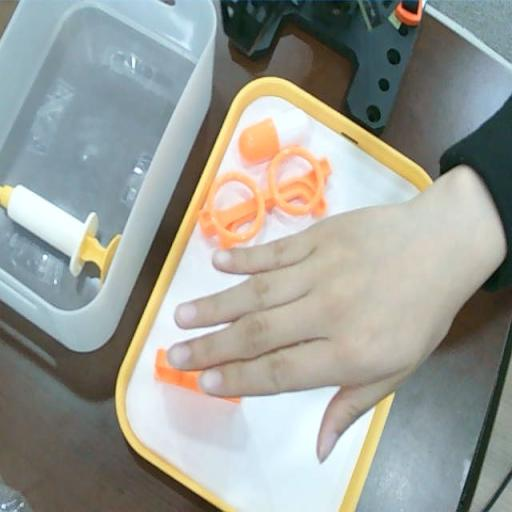hospital: (168, 158, 495, 470)
